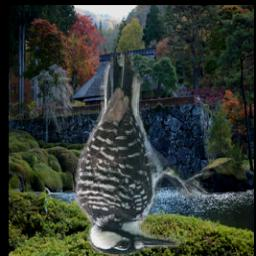Woodpecker: (70, 50, 218, 256)
